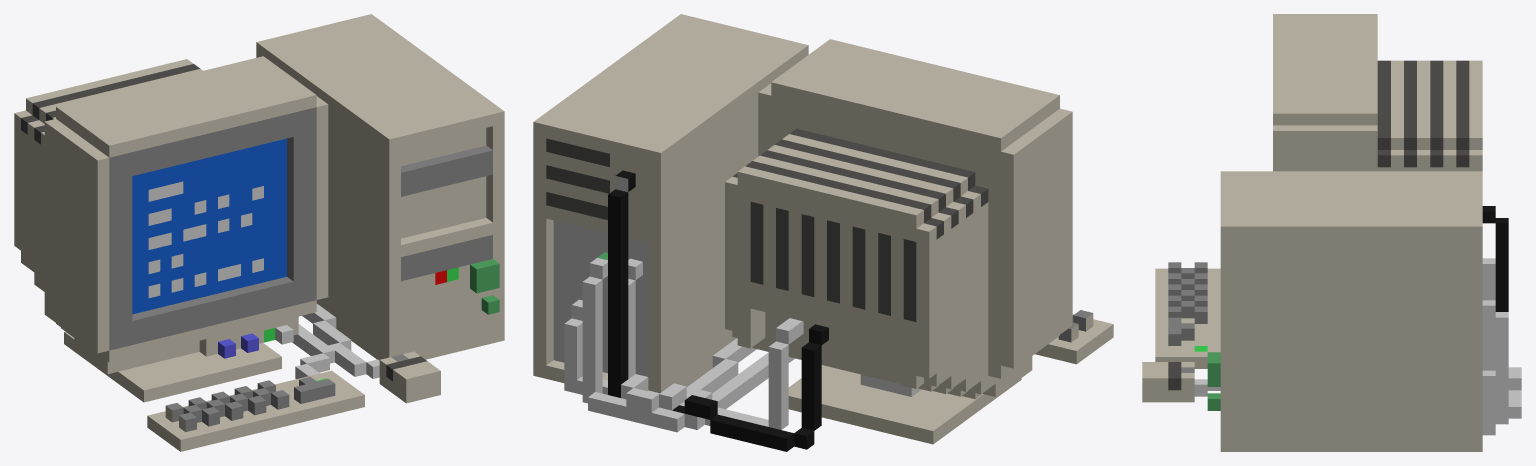
Rendered from PixelPC.glb.
3 renders of one model, left to right at view 1: azimuth 30°, elevation 25°; view 2: azimuth 150°, elevation 25°; view 3: azimuth 270°, elevation 25°, orthographic. The views are drawn at different scales.
Visible parts, largest first — view 1: PixelPC.1; view 2: PixelPC.1; view 3: PixelPC.1.
Part boxes in pixels (left/top/right/bottom): PixelPC.1: left=14, top=14, right=504, bottom=451; PixelPC.1: left=533, top=14, right=1113, bottom=451; PixelPC.1: left=1142, top=14, right=1521, bottom=451.
Bounding box in the file's own units: 193 × 128 × 169.
